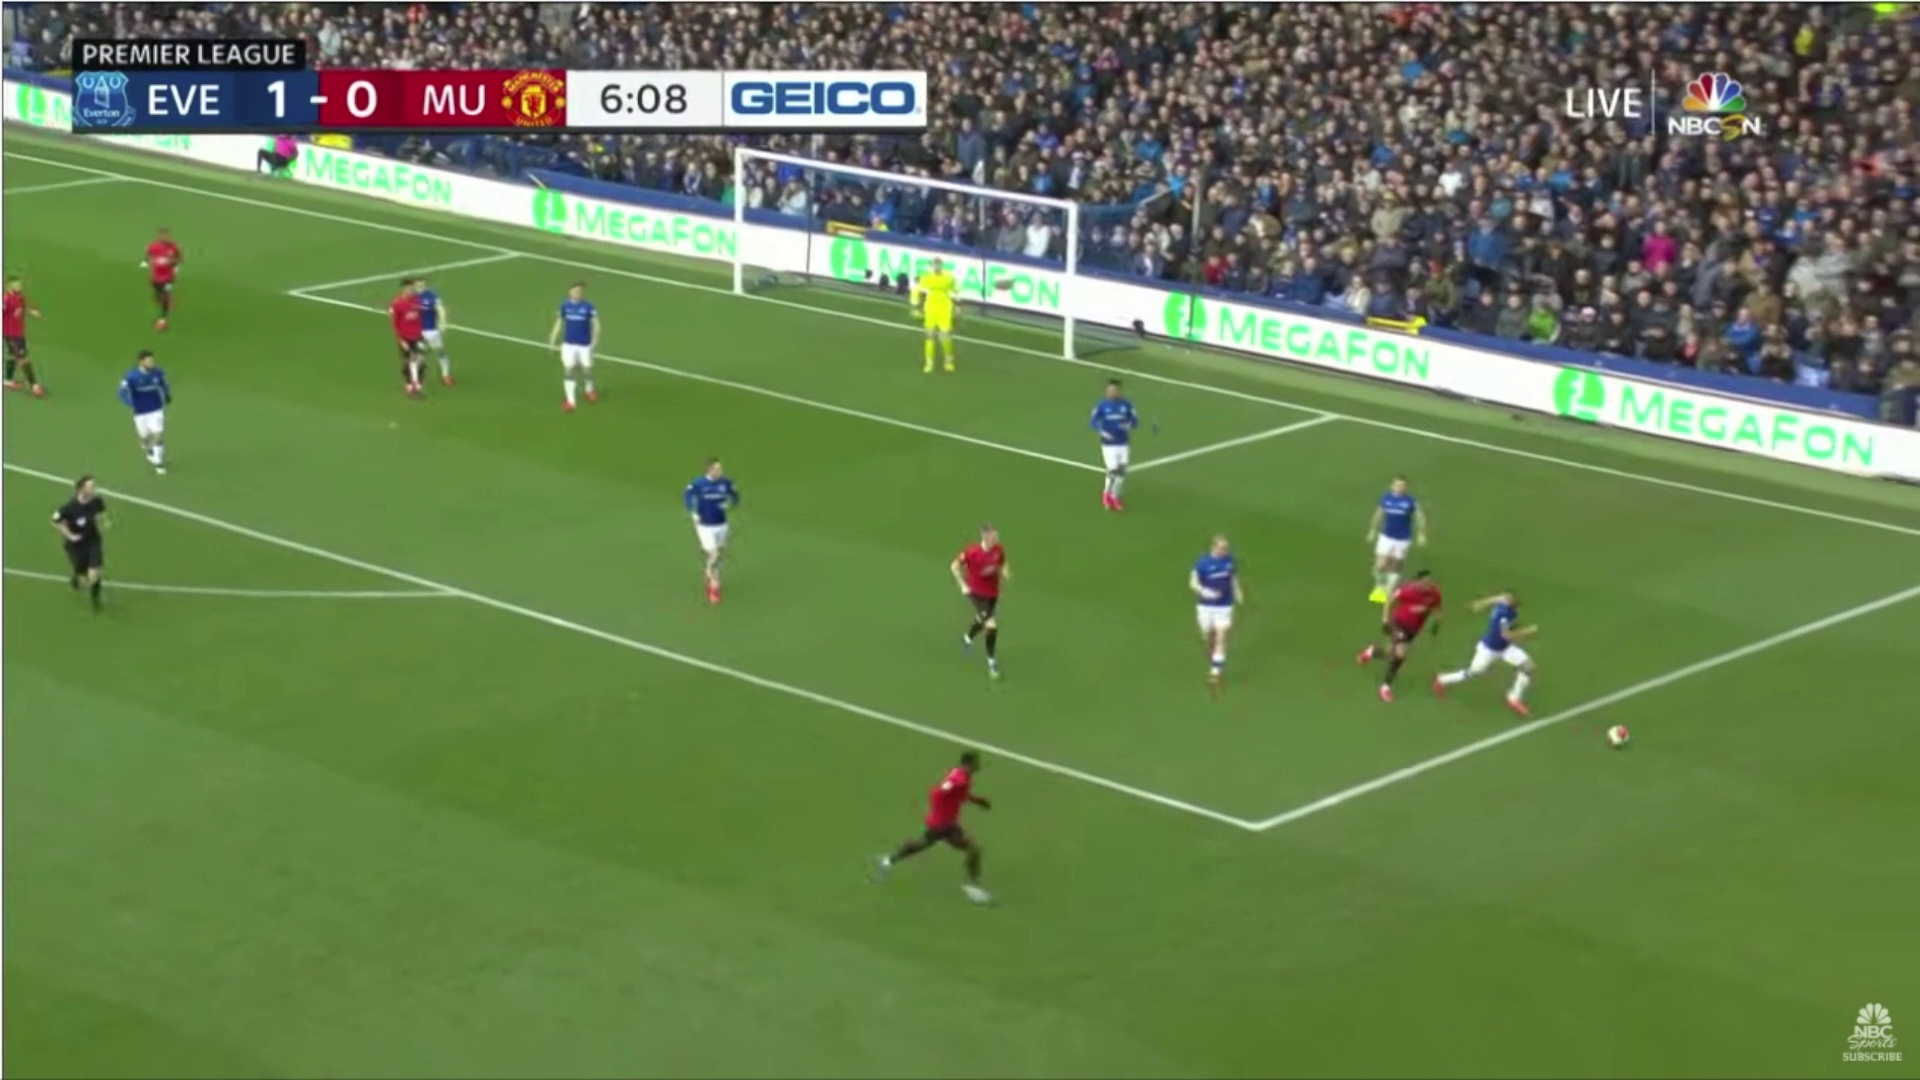ball: (1599, 704, 1641, 762)
player: (870, 725, 1016, 927), (660, 423, 785, 615), (935, 512, 1050, 681), (1429, 579, 1556, 729), (1162, 515, 1258, 692), (112, 333, 200, 492), (1349, 463, 1447, 604), (893, 242, 981, 390), (1356, 571, 1445, 715), (1075, 365, 1160, 515), (125, 213, 210, 340), (549, 267, 620, 415), (375, 260, 431, 425), (1, 263, 58, 421), (416, 258, 470, 400)
